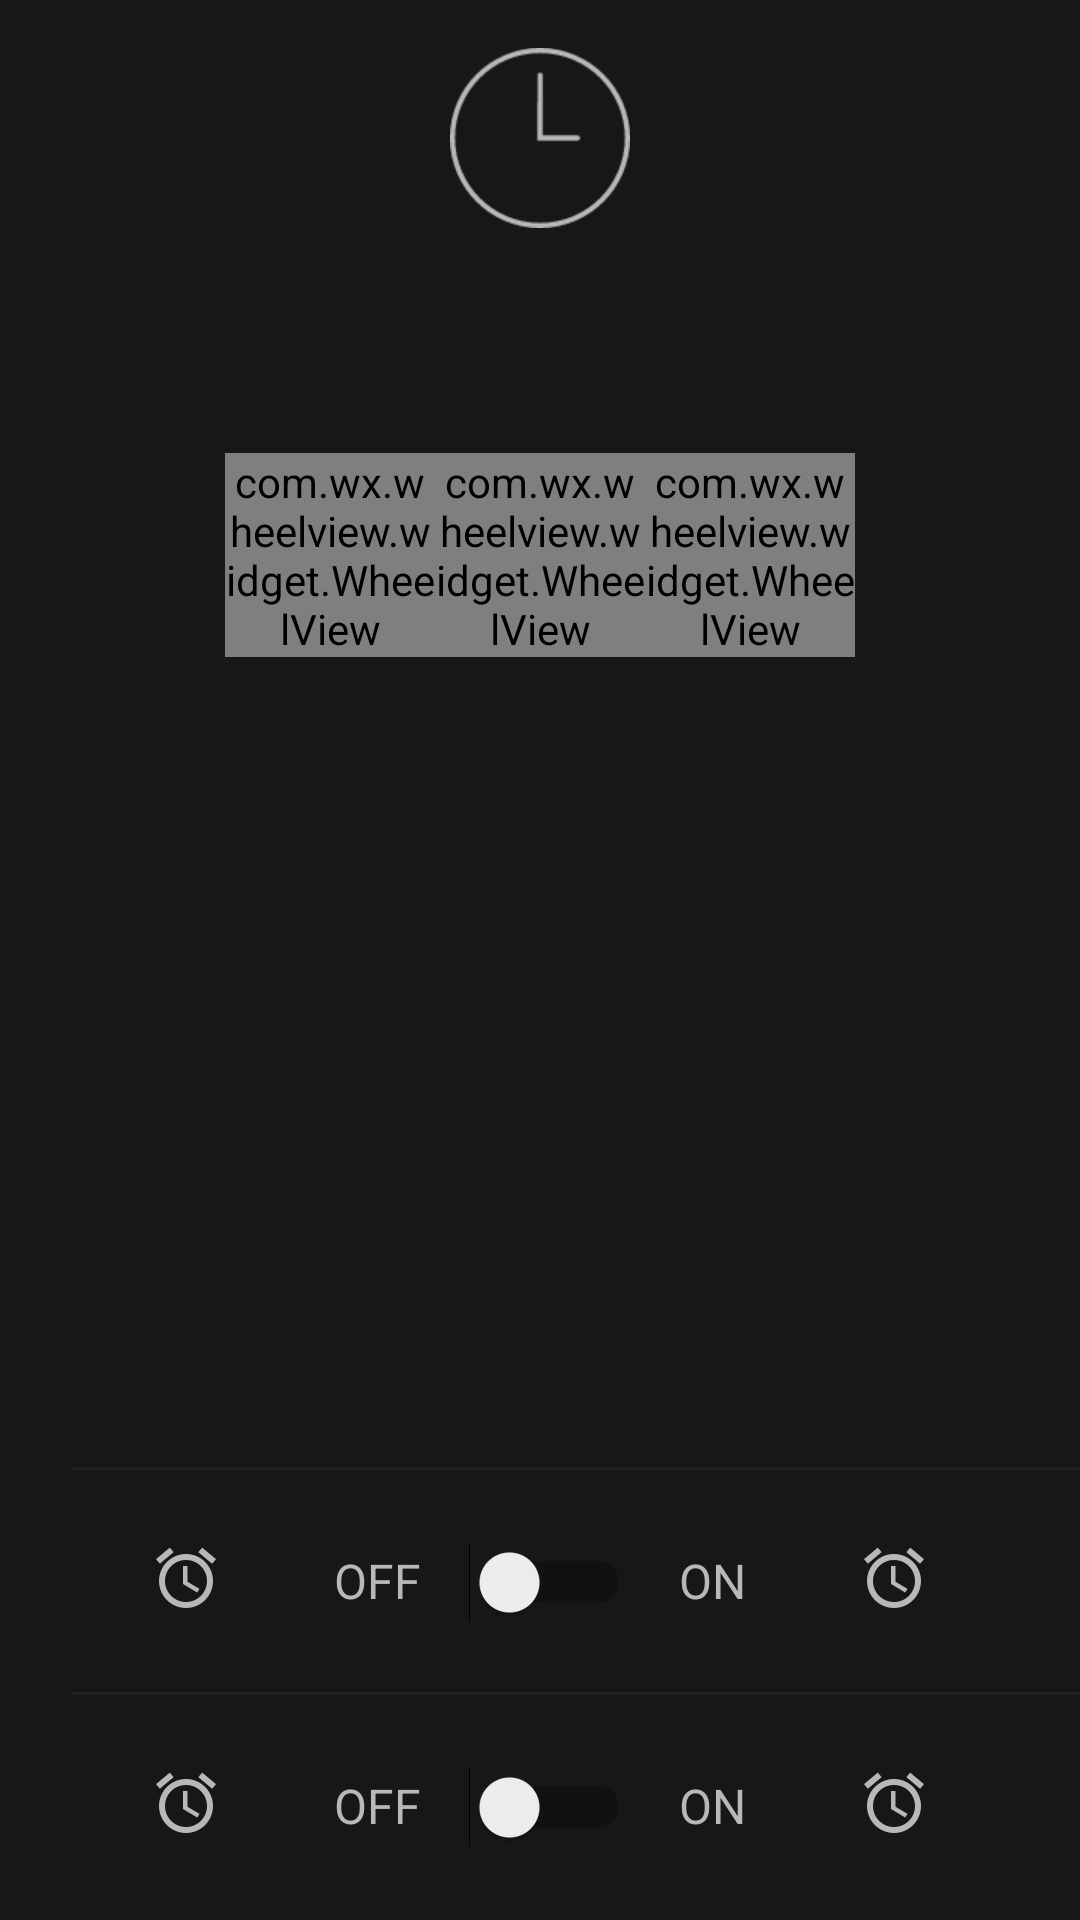

Named icons in this screenshot (1080px×1920px) and their bounding boxes, (x1=x1, y1=y1, x2=x2, y2=y2):
clock: (x1=450, y1=48, x2=630, y2=228), (x1=156, y1=1547, x2=216, y2=1608), (x1=864, y1=1547, x2=924, y2=1608), (x1=156, y1=1772, x2=216, y2=1833), (x1=864, y1=1772, x2=924, y2=1833)
